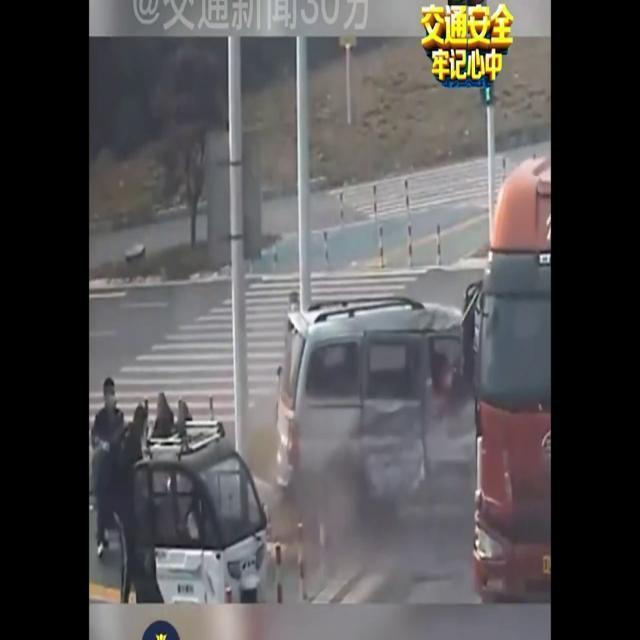accident: (271, 158, 551, 608)
